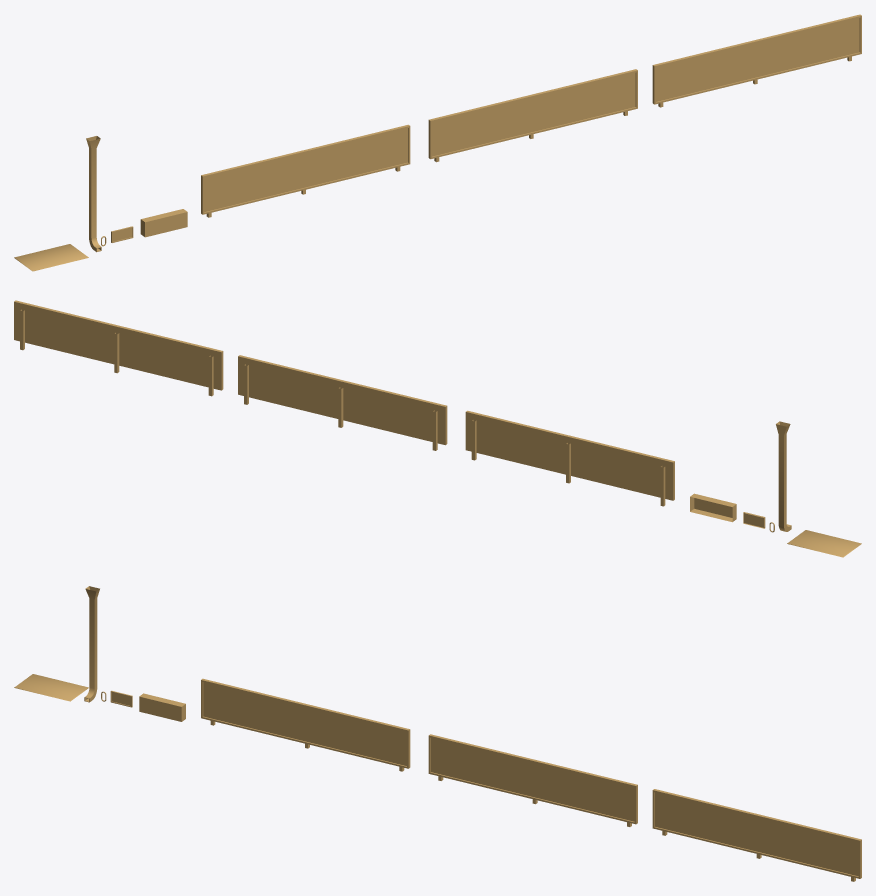
The model's file is Props_Atlas_3.fbx.
3 renders of one model, top to bottom at view 1: azimuth 30°, elevation 25°; view 2: azimuth 150°, elevation 25°; view 3: azimuth 330°, elevation 25°, orthographic.
Parts seen in each view (by area): view 1: Board_1, Board_3, Board_2, Carpet, Drain_Pipe, window; view 2: Board_1, Board_3, Board_2, Carpet, Drain_Pipe, window; view 3: Board_3, Board_1, Board_2, Carpet, Drain_Pipe, window.
Boxes of the visible parts, x1,y1,x2,y2 form: Board_1: (201, 124, 410, 217); Board_3: (652, 14, 861, 107); Board_2: (428, 69, 637, 162); Carpet: (14, 244, 88, 271); Drain_Pipe: (86, 136, 101, 252); window: (140, 209, 187, 237); Board_1: (465, 410, 674, 506); Board_3: (14, 300, 223, 396); Board_2: (238, 355, 447, 450); Carpet: (787, 530, 861, 557); Drain_Pipe: (776, 421, 791, 531); window: (690, 493, 736, 522); Board_3: (652, 789, 861, 881); Board_1: (201, 678, 410, 771); Board_2: (428, 734, 637, 826); Carpet: (14, 674, 88, 701); Drain_Pipe: (84, 586, 99, 702); window: (139, 693, 185, 721).
Bounding box in the file's own units: 23.98 × 3.02 × 0.9304.
